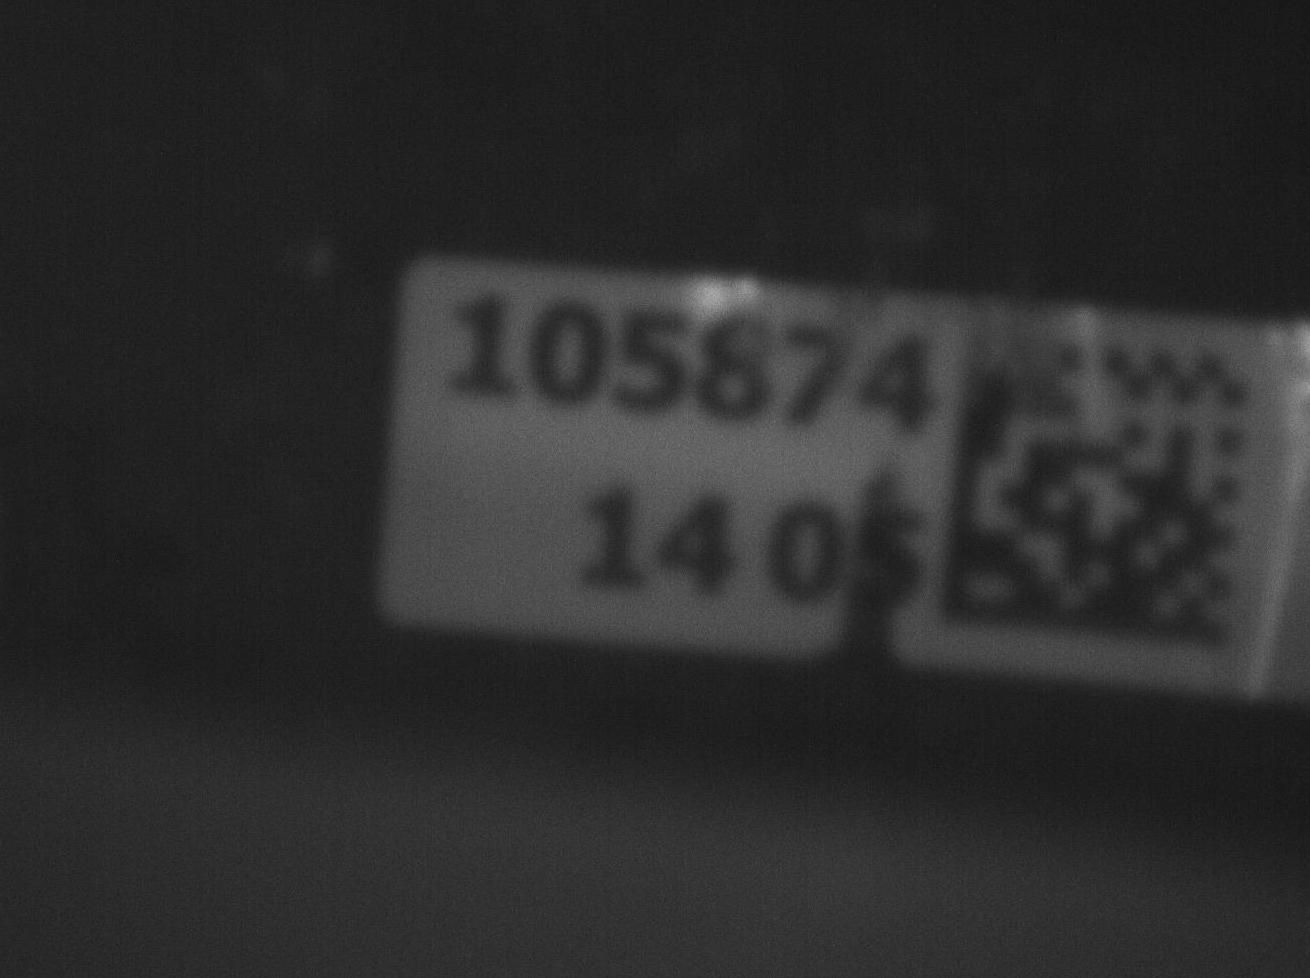data matrix: (915, 298, 1310, 673)
